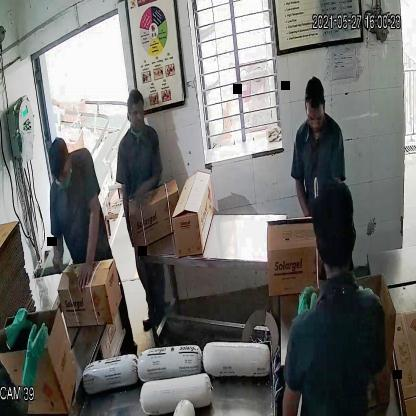no_goggles: (304, 106, 326, 128), (125, 104, 147, 122)
